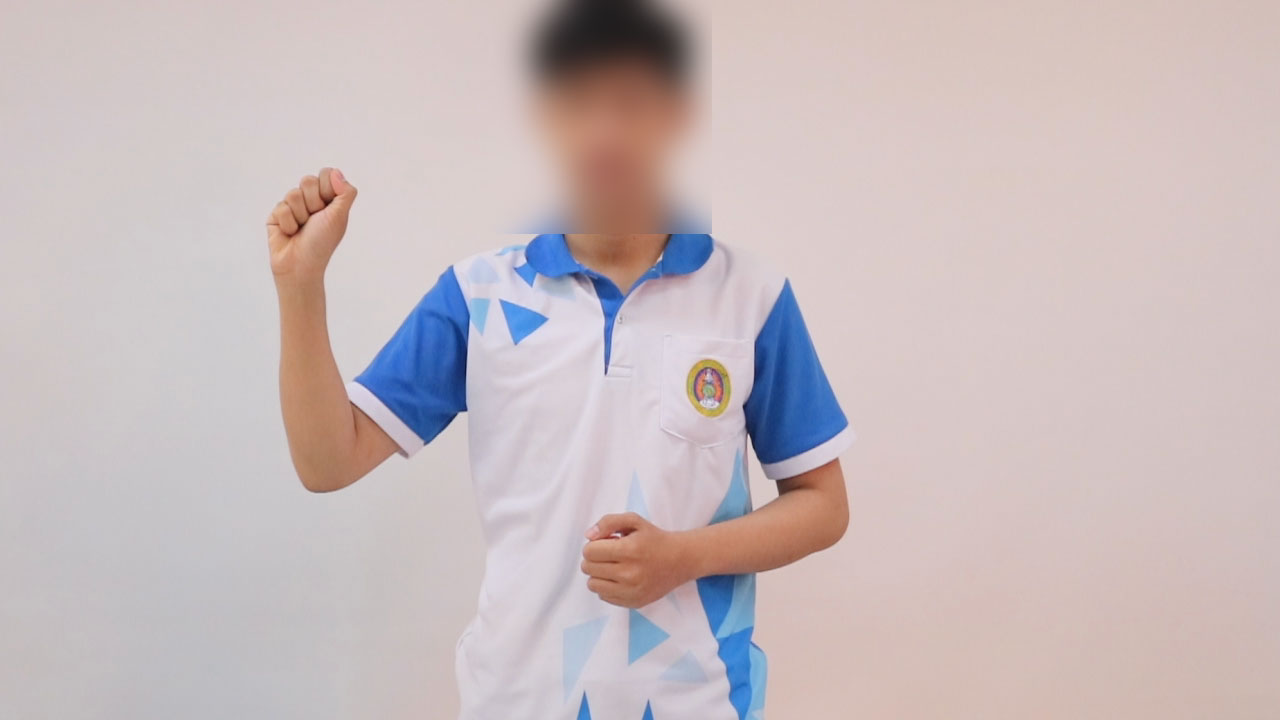sor: (251, 158, 365, 287)
